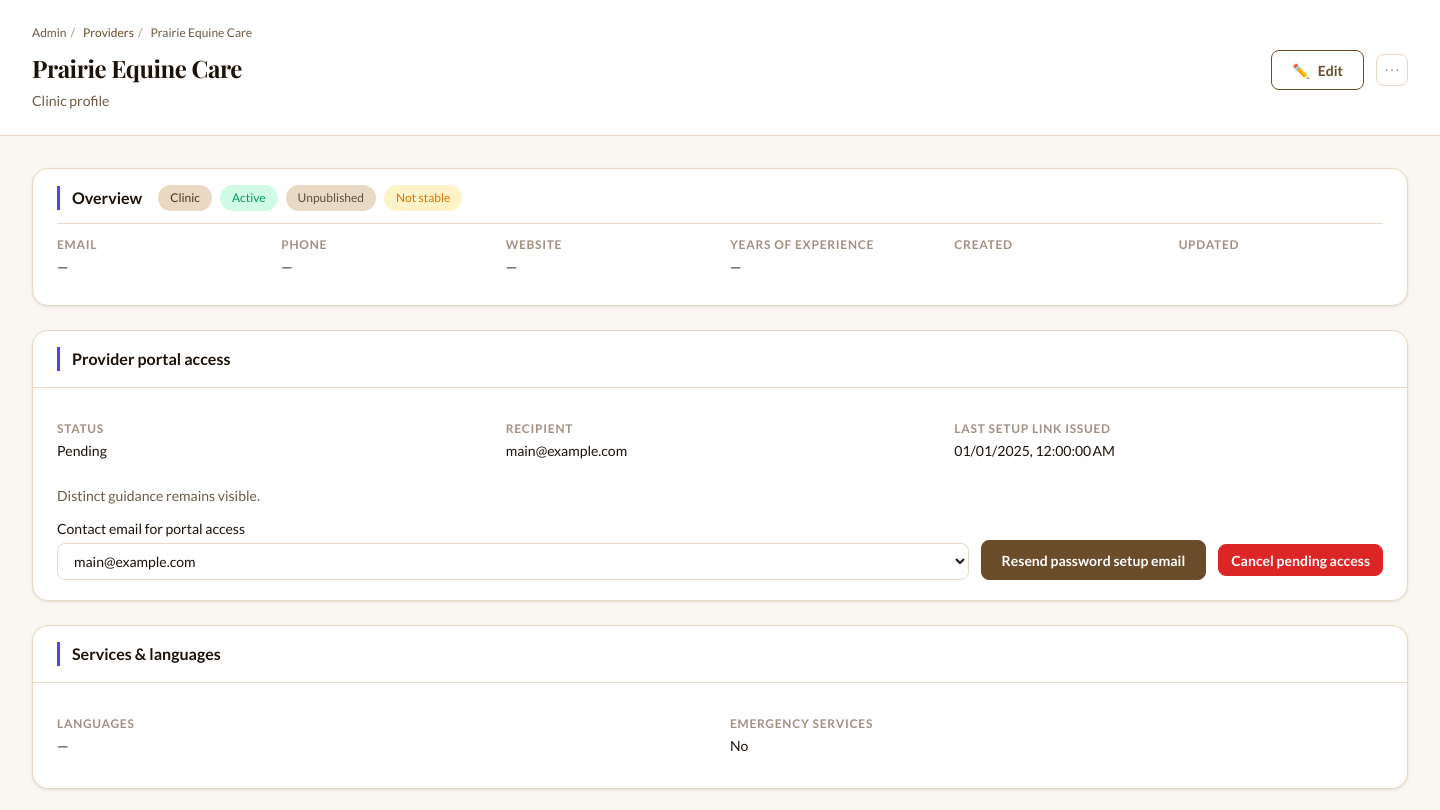
Test case: ProviderDetailPage doctor visits › announces setup success once even when the refreshed response repeats it
The width and height of the screenshot is (1440, 810).
What coordinates should you click on to do the following:
click the button "Resend password setup email"
I would click on:
 (1093, 560)
Its box is left=981, top=540, right=1206, bottom=580.
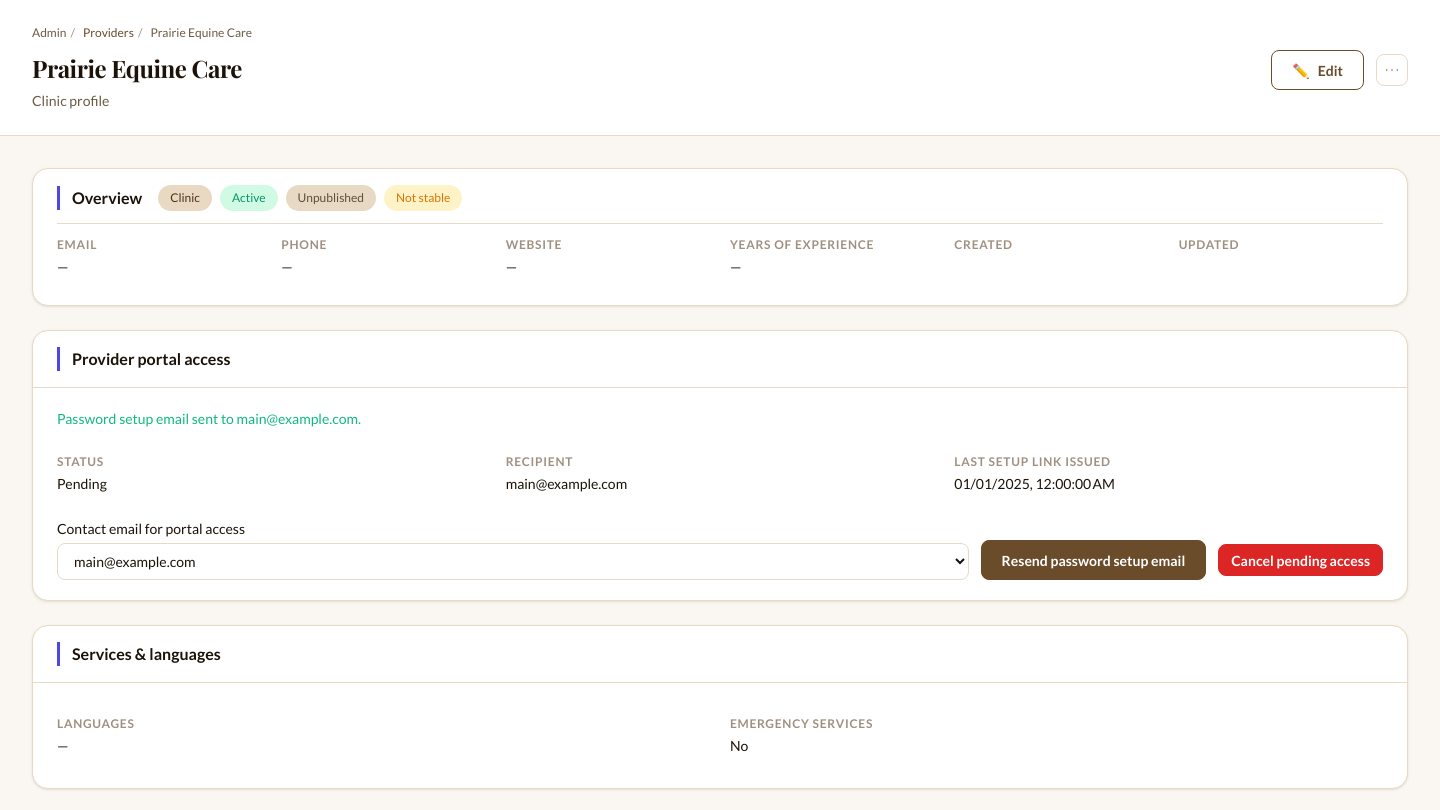
Now the text "Password setup email sent to main@example.com." is shown once, box left=57, top=410, right=361, bottom=427
